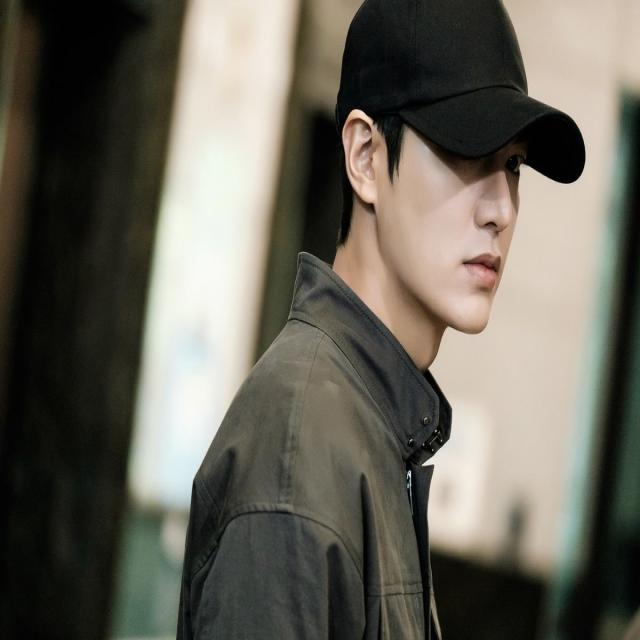Cap: (334, 2, 590, 188)
